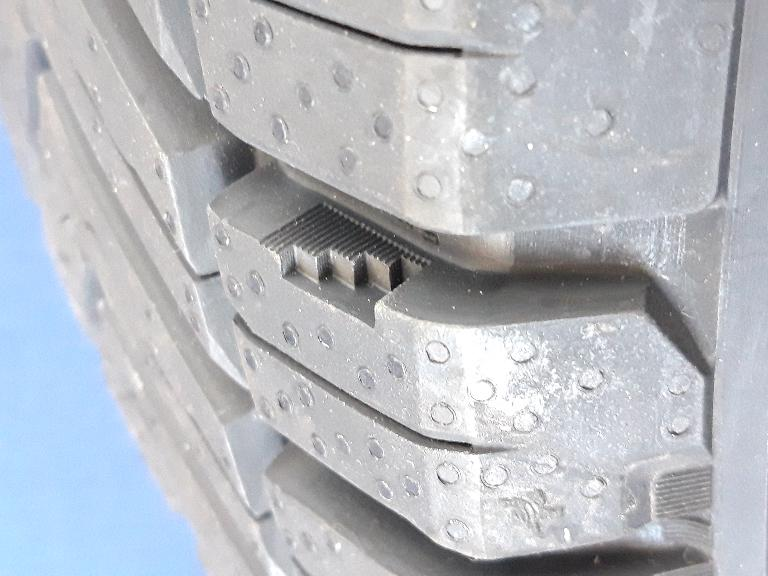temoin:100: (255, 196, 439, 336)
